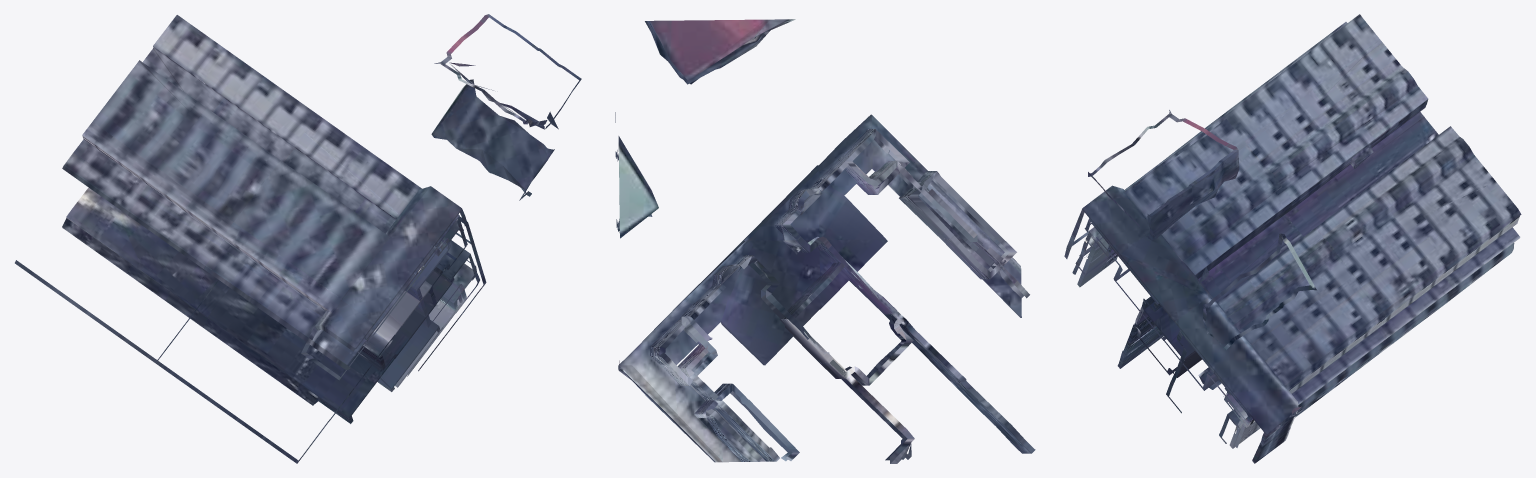
3 renders of one model, left to right at view 1: azimuth 30°, elevation 25°; view 2: azimuth 150°, elevation 25°; view 3: azimuth 270°, elevation 25°, orthographic. The views are drawn at different scales.
Bounding box in the file's own units: 53.22 × 41.27 × 47.58.
Materials: 2 (2 with a texture image).
